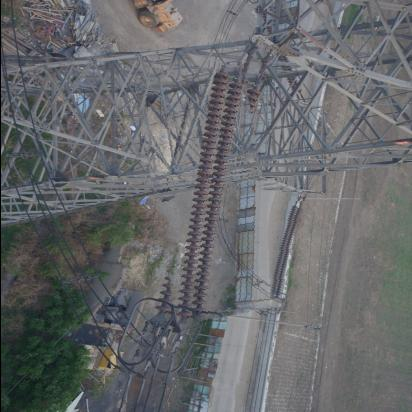insulator: (144, 67, 274, 323), (268, 203, 307, 299)
